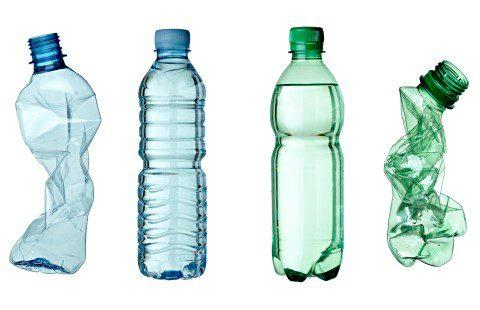HDPE: (273, 18, 335, 59), (146, 23, 200, 55)
PETE: (5, 23, 113, 285), (258, 60, 360, 287), (381, 39, 472, 281), (135, 55, 220, 285)
